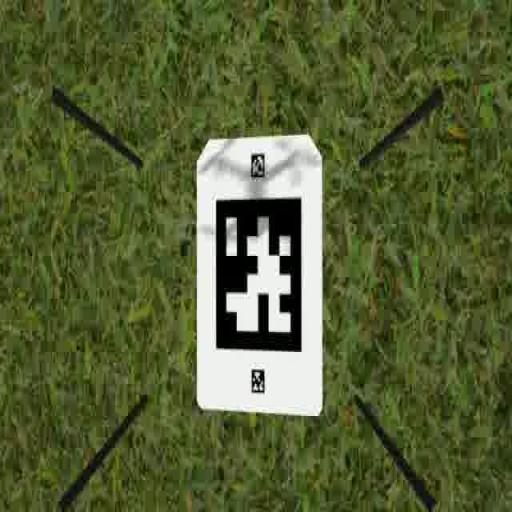UGV: (193, 128, 326, 423)
